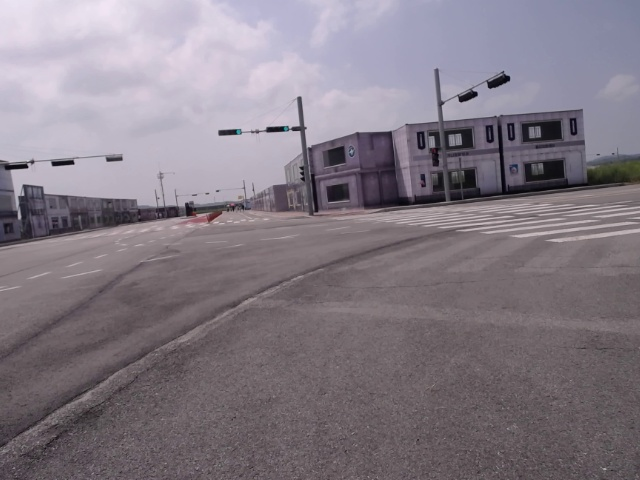straight_green_4: (218, 128, 242, 135), (266, 126, 288, 133)
